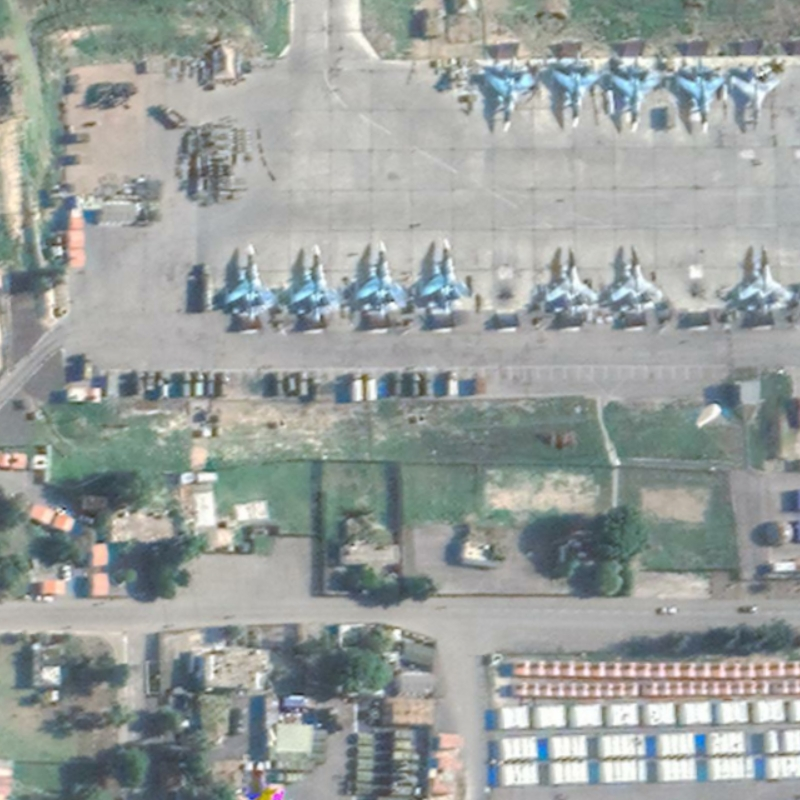A1: (732, 241, 797, 318), (539, 243, 601, 318), (604, 240, 666, 314), (729, 60, 782, 133)
A19: (604, 54, 666, 133), (220, 240, 280, 321), (286, 241, 345, 323), (546, 47, 604, 129), (482, 53, 542, 132), (350, 237, 410, 316), (414, 235, 472, 313), (673, 59, 729, 137)
